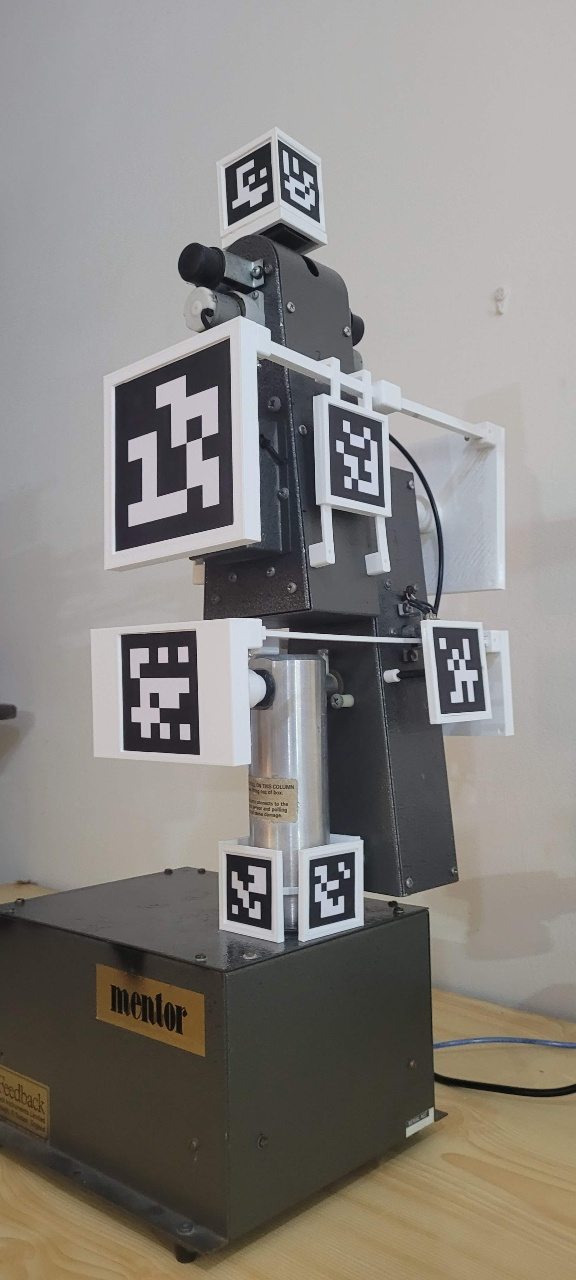Robot: (86, 127, 522, 947)
